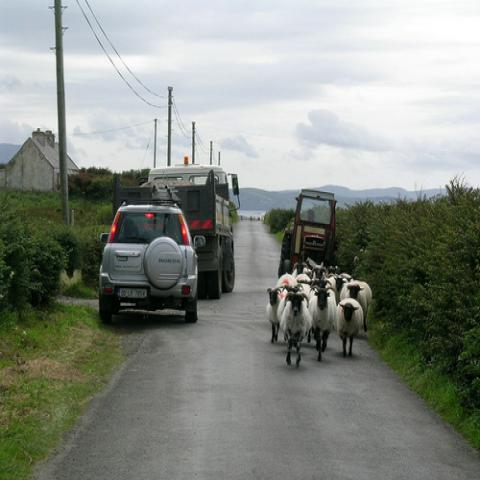car: (98, 195, 206, 323)
truck: (114, 155, 241, 300)
